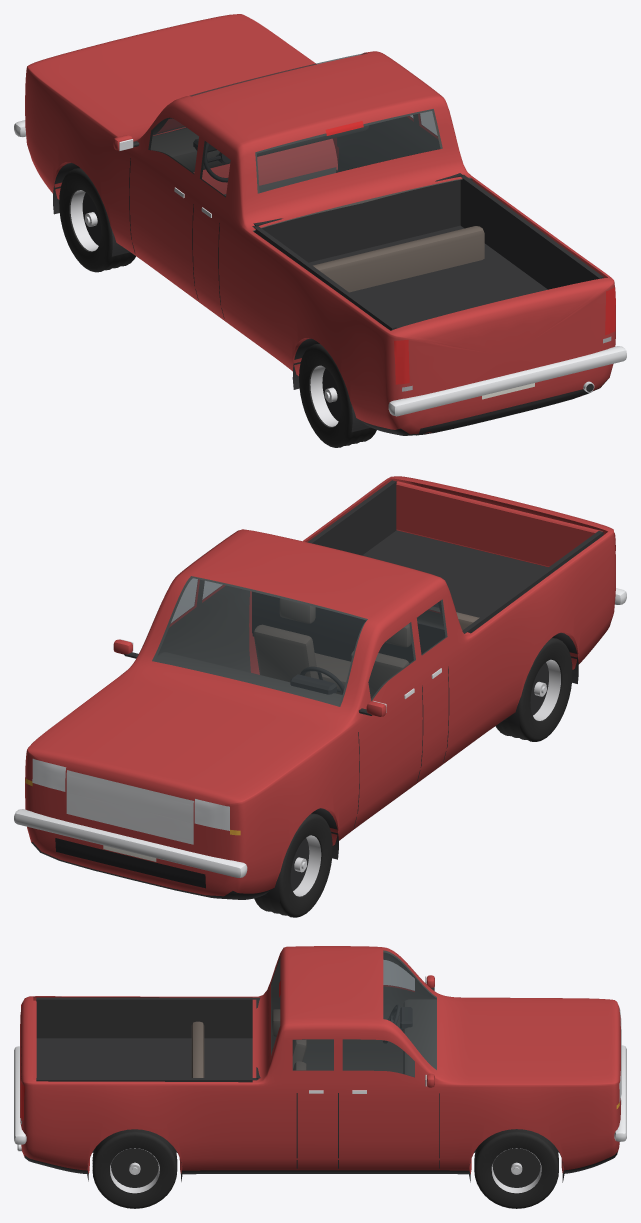
Rendered from haulmark_2500.glb.
The picture shows the model from 3 angles, top to bottom: view 1: azimuth 30°, elevation 25°; view 2: azimuth 150°, elevation 25°; view 3: azimuth 270°, elevation 25°; orthographic projection. The views are drawn at different scales.
Parts seen in each view (by area): view 1: Body, Interior, Glass, Wheel_FL, Wheel_RL, Lights_Tail; view 2: Body, Glass, Interior, Wheel_FL, Wheel_RL, Lights_Head; view 3: Body, Interior, Glass, Wheel_RR, Wheel_FR.
Part boxes in pixels (x1,y1,x2,y2): Body: (14, 14, 626, 435); Interior: (148, 109, 484, 292); Glass: (148, 53, 440, 196); Wheel_FL: (59, 168, 135, 272); Wheel_RL: (299, 344, 376, 447); Lights_Tail: (394, 287, 615, 384); Body: (14, 476, 626, 901); Glass: (152, 576, 446, 706); Interior: (152, 576, 479, 706); Wheel_FL: (254, 813, 332, 917); Wheel_RL: (495, 638, 572, 741); Lights_Head: (32, 758, 229, 830); Body: (14, 946, 626, 1182); Interior: (191, 950, 436, 1077); Glass: (271, 951, 436, 1077); Wheel_RR: (92, 1129, 177, 1208); Wheel_FR: (474, 1129, 558, 1208).
Bounding box in the file's own units: 2.34 × 1.92 × 5.78.
